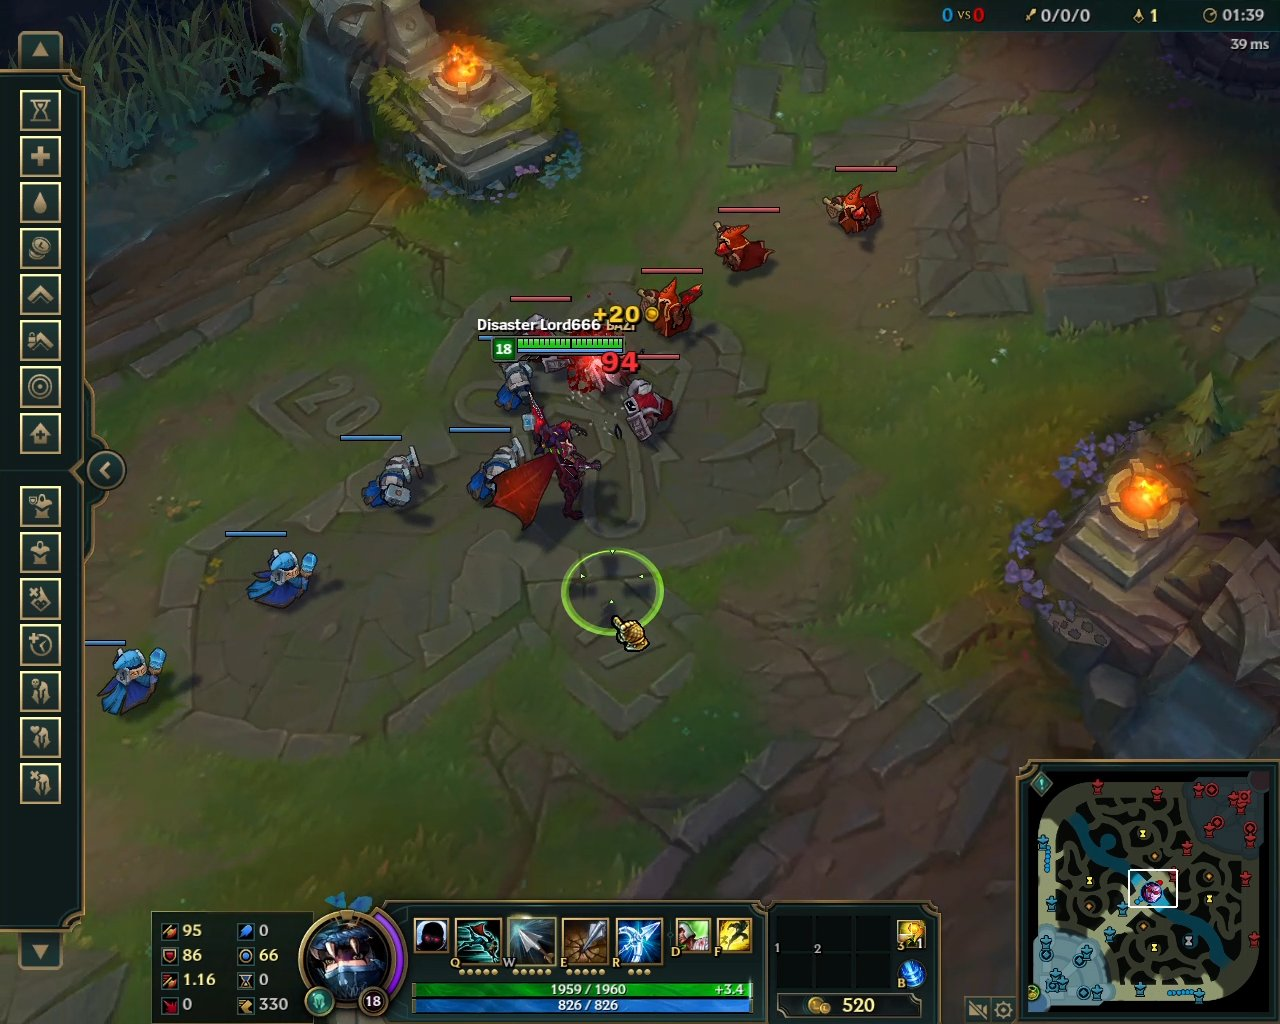EnemyMinion: (616, 353, 686, 441), (818, 165, 897, 238), (630, 266, 705, 340), (712, 203, 778, 278)
Vayne: (481, 388, 606, 539)
